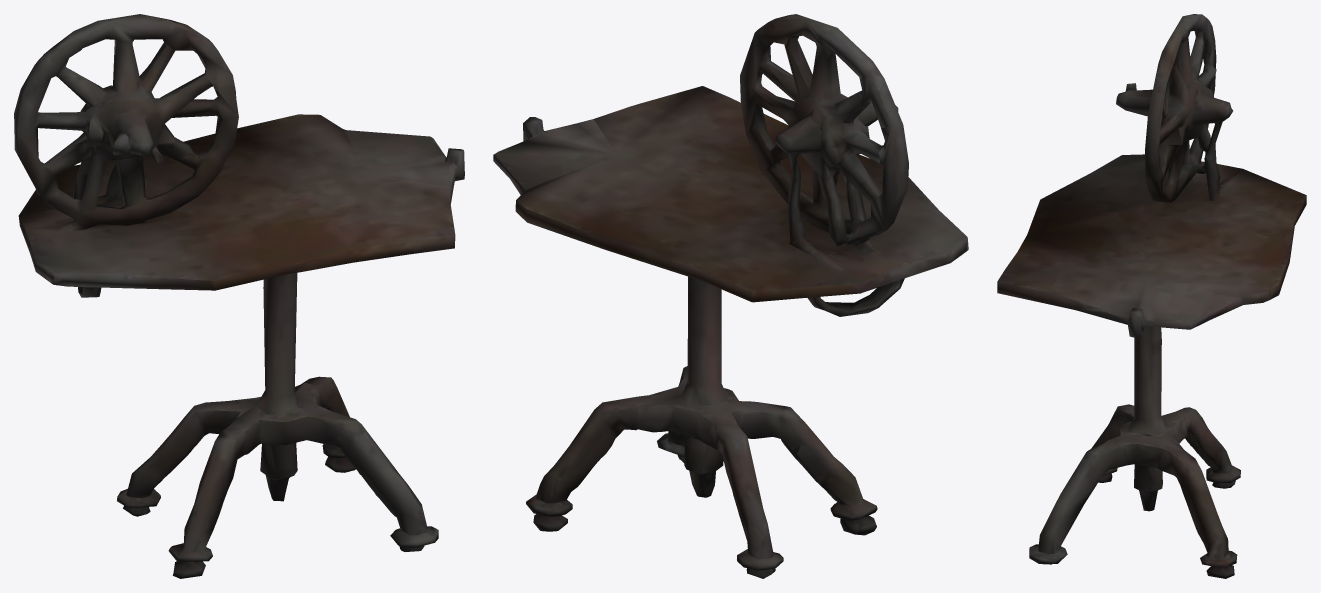
The model's file is old-iron-operating-table-v001.glb.
3 renders of one model, left to right at view 1: azimuth 30°, elevation 25°; view 2: azimuth 150°, elevation 25°; view 3: azimuth 270°, elevation 25°, orthographic. The views are drawn at different scales.
Parts seen in each view (by area): view 1: old-iron-operating-table; view 2: old-iron-operating-table; view 3: old-iron-operating-table.
Part boxes in pixels (<box>): old-iron-operating-table: <box>14,14,464,578</box>; old-iron-operating-table: <box>493,14,968,578</box>; old-iron-operating-table: <box>997,14,1306,578</box>.
Size of the model in its own units: 0.7164 by 0.8547 by 0.5301.
1 material, 1 textured.
